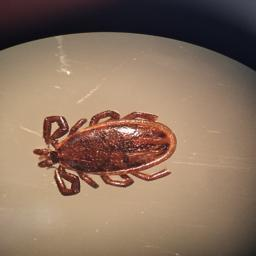Ixodes scapularis: (34, 109, 176, 195)
